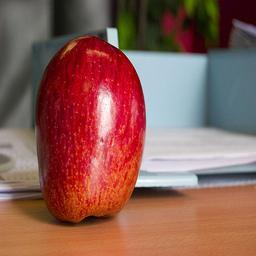apple: (35, 34, 146, 224)
